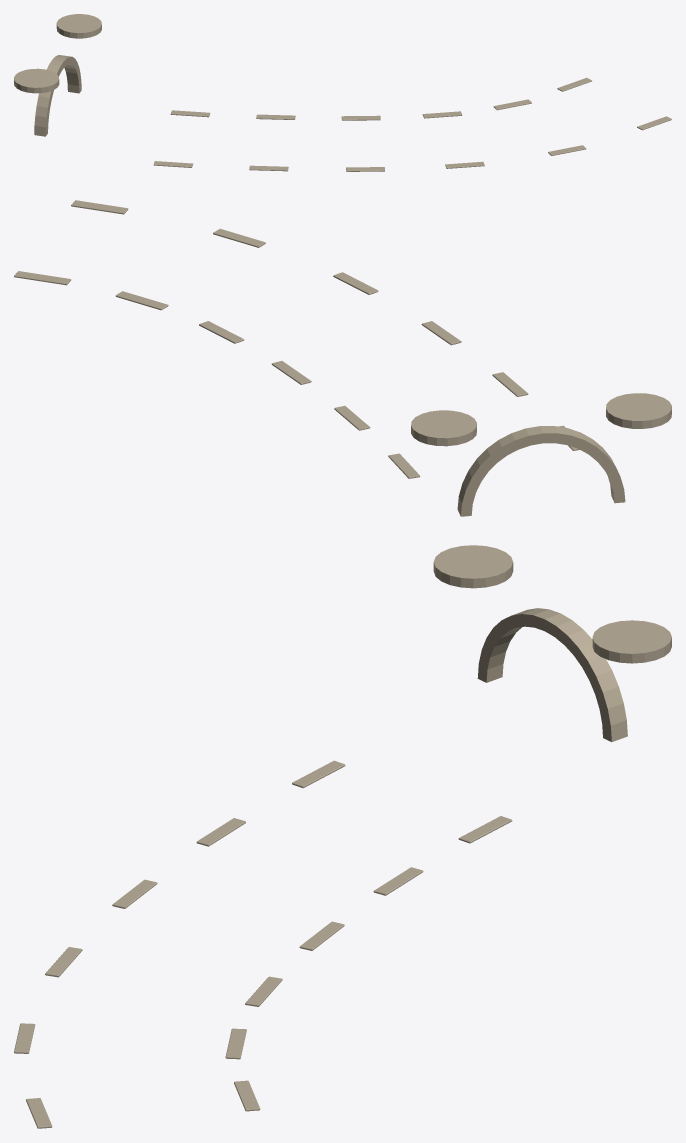
The model's file is Sector7_SandstoneTrim_1.fbx.
3 views of the same model, one above another, from view 1: azimuth 30°, elevation 25°; view 2: azimuth 150°, elevation 25°; view 3: azimuth 270°, elevation 25° (orthographic). The views are drawn at different scales.
Parts seen in each view (by area): view 1: Sector7_SandstoneTrim_1; view 2: Sector7_SandstoneTrim_1; view 3: Sector7_SandstoneTrim_1.
Part boxes in pixels (x1=…): Sector7_SandstoneTrim_1: x1=14, y1=14, x2=671, y2=171; Sector7_SandstoneTrim_1: x1=14, y1=200, x2=671, y2=516; Sector7_SandstoneTrim_1: x1=14, y1=545, x2=671, y2=1128.
Size of the model in its own units: 40413 by 5656 by 24834.
